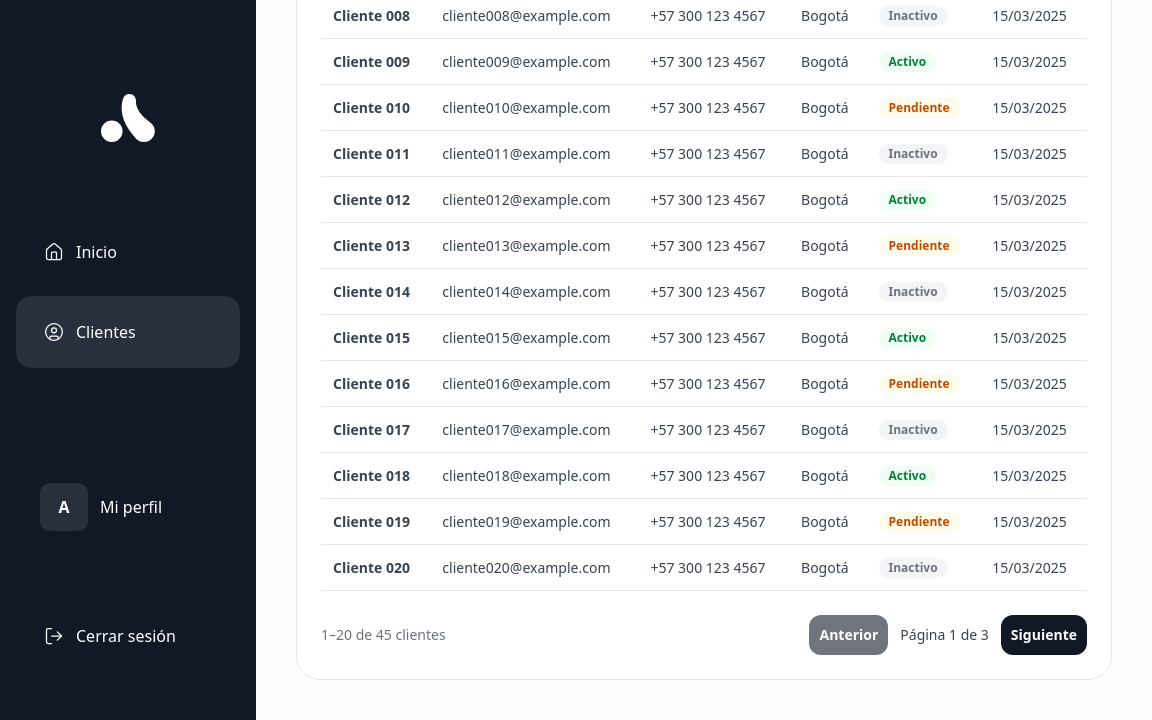
Test: ServiceClientsPage › paginación › "Siguiente" muestra la página 2 y lo guarda en la URL
The image size is (1152, 720).
(page scrolled)
Click the button "Siguiente": (1044, 635) [1001,615,1087,655]
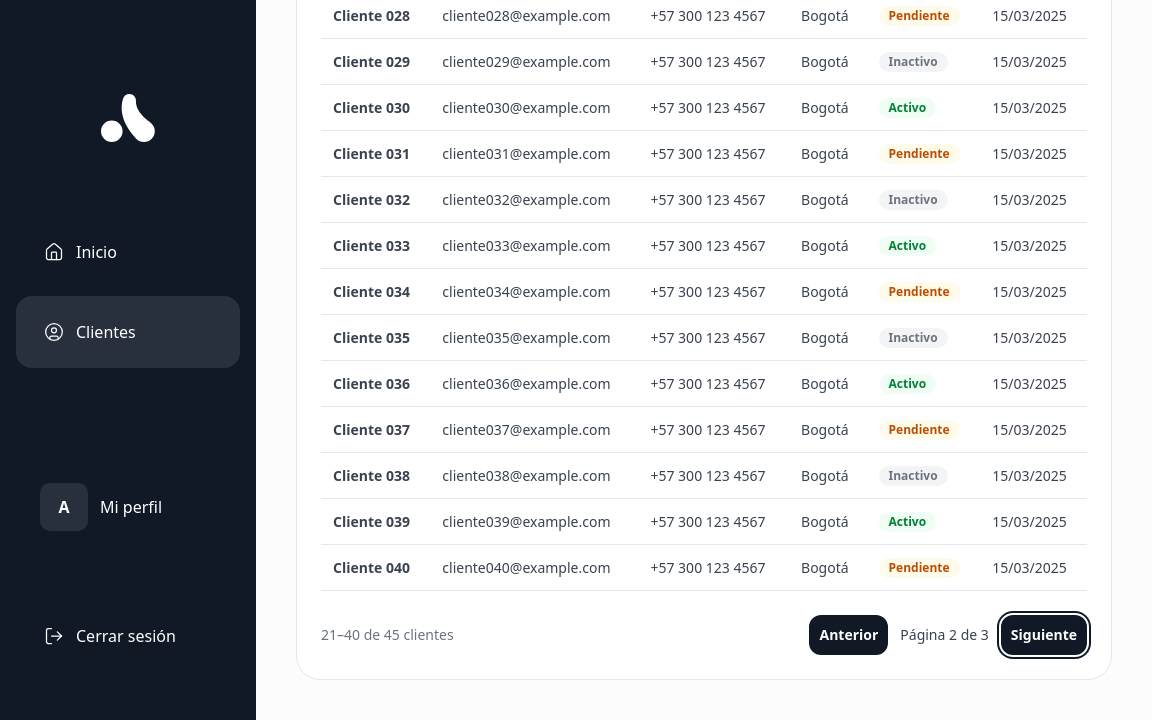
Result: the text "Página 2 de 3" is shown at [900,625,989,645]
